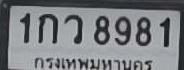1: (159, 16, 169, 46), (19, 12, 29, 42)
8: (93, 15, 109, 44), (135, 16, 150, 45)
9: (114, 15, 130, 45)
A01: (37, 13, 57, 43)
A37: (63, 13, 82, 43)
BKK: (33, 55, 154, 70)
